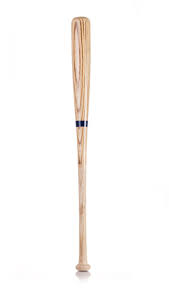bat: (69, 15, 93, 274)
